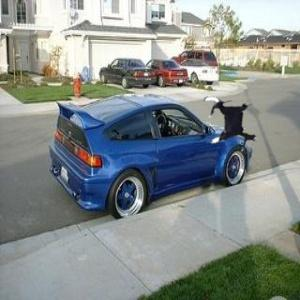drone: (193, 88, 266, 161)
